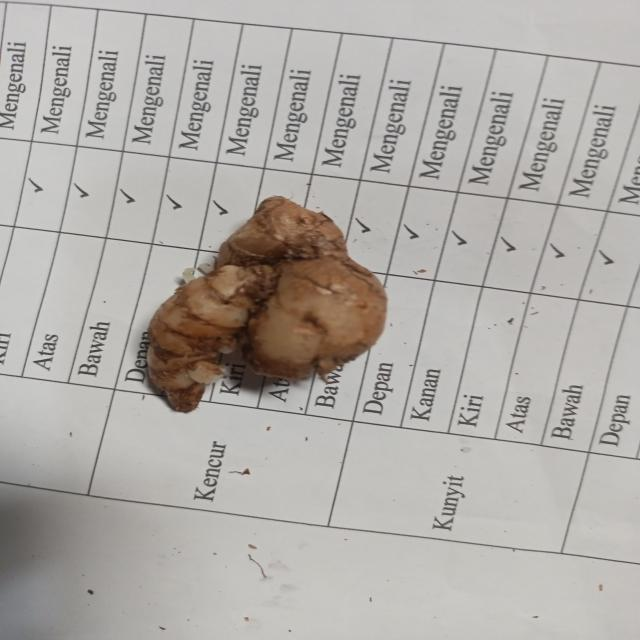ginger: (144, 195, 387, 403)
